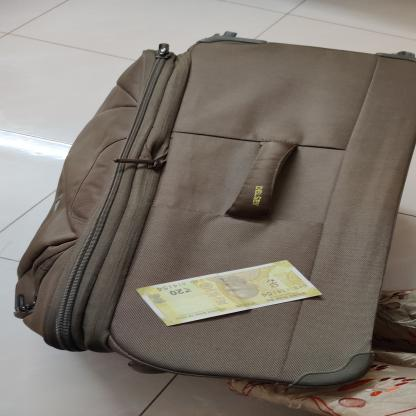New20Front: (135, 260, 325, 326)
